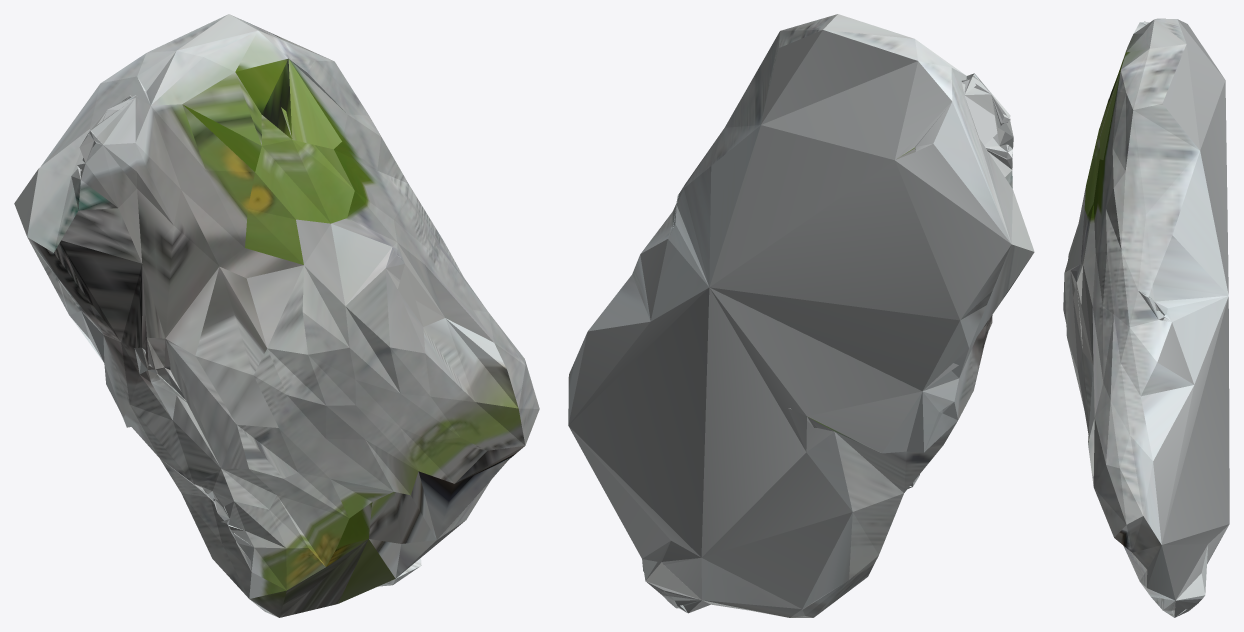
File: safety_works_safety_glasses.dae
3 views of the same model, side by side, from view 1: azimuth 30°, elevation 25°; view 2: azimuth 150°, elevation 25°; view 3: azimuth 270°, elevation 25° (orthographic). The views are drawn at different scales.
Visible parts, largest first — view 1: node; view 2: node; view 3: node.
Boxes of the visible parts, x1,y1,x2,y2 form: node: [14, 14, 539, 617]; node: [568, 14, 1034, 617]; node: [1063, 18, 1229, 617].
Size of the model in its own units: 0.1595 by 0.1916 by 0.0567.
1 material, 1 textured.
